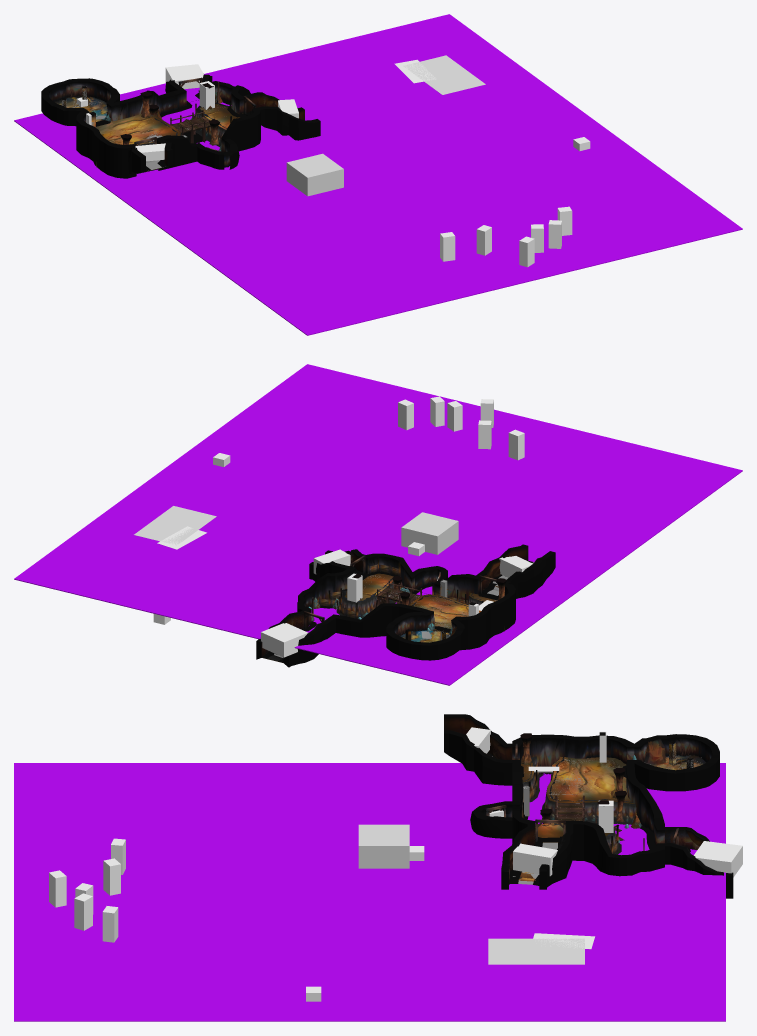
3 renders of one model, top to bottom at view 1: azimuth 30°, elevation 25°; view 2: azimuth 150°, elevation 25°; view 3: azimuth 270°, elevation 25°, orthographic. The views are drawn at different scales.
Parts seen in each view (by area): view 1: NavGrid_CheckArea, Dun031_Wall001, Dan1_ido_Wall, Dun031_Grond001, Cube (9), Dan1_005, Cube, Dan1_003, dungeon_031_Object_005, FieldDungeon_Enter (1), Dan1_ido_Ground; view 2: NavGrid_CheckArea, Dun031_Wall001, Dan1_003 (×2), Dan1_ido_Wall, dungeon_031_Object_005 (×2), Dun031_Grond001, Cube (9), Cube, FieldDungeon_Enter (1), Dan1_004, Dun_Side_Wall001, Dan1_005; view 3: NavGrid_CheckArea, Dun031_Wall001, Dan1_003 (×2), Dun031_Grond001, Dan1_ido_Wall, Cube (×2), Cube (9), Dun_Side_Wall001, dungeon_031_Object_005 (×2), FieldDungeon_Enter (1), FieldDungeon_Enter (2), Dan1_005 (+7 smaller).
Boxes of the visible parts, left/top/right/bottom form: NavGrid_CheckArea: left=14, top=14, right=742, bottom=335; Dun031_Wall001: left=76, top=81, right=260, bottom=178; Dan1_ido_Wall: left=41, top=78, right=119, bottom=126; Dun031_Grond001: left=96, top=104, right=243, bottom=167; Cube (9): left=286, top=153, right=343, bottom=196; Dan1_005: left=242, top=92, right=320, bottom=140; Cube: left=403, top=55, right=485, bottom=94; Dan1_003: left=128, top=139, right=174, bottom=174; dungeon_031_Object_005: left=170, top=82, right=219, bottom=143; FieldDungeon_Enter (1): left=165, top=64, right=203, bottom=89; Dan1_ido_Ground: left=55, top=86, right=107, bottom=121; NavGrid_CheckArea: left=14, top=364, right=742, bottom=685; Dun031_Wall001: left=297, top=553, right=515, bottom=650; Dan1_003 (×2): left=256, top=544, right=555, bottom=667; Dan1_ido_Wall: left=386, top=612, right=464, bottom=660; dungeon_031_Object_005 (×2): left=303, top=554, right=499, bottom=629; Dun031_Grond001: left=344, top=573, right=504, bottom=632; Cube (9): left=401, top=512, right=458, bottom=554; Cube: left=134, top=506, right=216, bottom=545; FieldDungeon_Enter (1): left=261, top=623, right=307, bottom=657; Dan1_004: left=256, top=611, right=335, bottom=667; Dun_Side_Wall001: left=336, top=578, right=485, bottom=618; Dan1_005: left=309, top=549, right=365, bottom=581; NavGrid_CheckArea: left=14, top=763, right=725, bottom=1021; Dun031_Wall001: left=470, top=734, right=664, bottom=876; Dan1_003 (×2): left=444, top=714, right=733, bottom=898; Dun031_Grond001: left=521, top=756, right=634, bottom=842; Dan1_ido_Wall: left=634, top=734, right=719, bottom=791; Cube (×2): left=74, top=893, right=584, bottom=964; Cube (9): left=358, top=824, right=409, bottom=868; Dun_Side_Wall001: left=522, top=756, right=642, bottom=854; dungeon_031_Object_005 (×2): left=485, top=732, right=679, bottom=853; FieldDungeon_Enter (1): left=694, top=841, right=742, bottom=877; FieldDungeon_Enter (2): left=513, top=843, right=557, bottom=876; Dan1_005: left=501, top=824, right=573, bottom=877.
Size of what is drawn, in the model's own units: 60 by 10 by 71.67.
